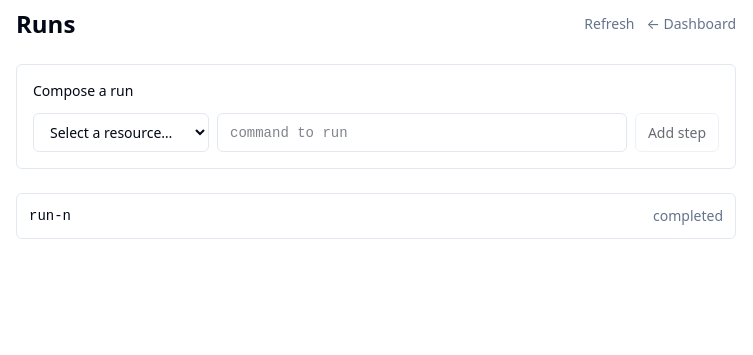
Runs route › names the resource (not just its id) in an expanded step, and says output is not stored with an Audit link (PUB-6 P15a)
Click the button "run-n". click: (50, 216)
box: [29, 206, 71, 226]
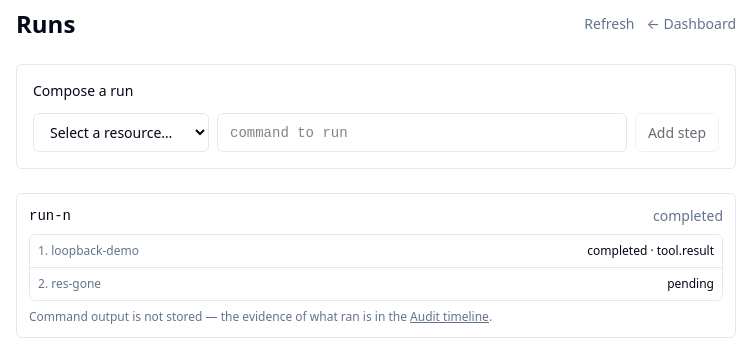
Now the list named "run steps" shows "1. loopback-demo", box [29, 234, 723, 301]
Now the list named "run steps" shows "2. res-gone", box [29, 234, 723, 301]
Now the text "Command output is not stored" is shown, box [29, 308, 407, 325]
